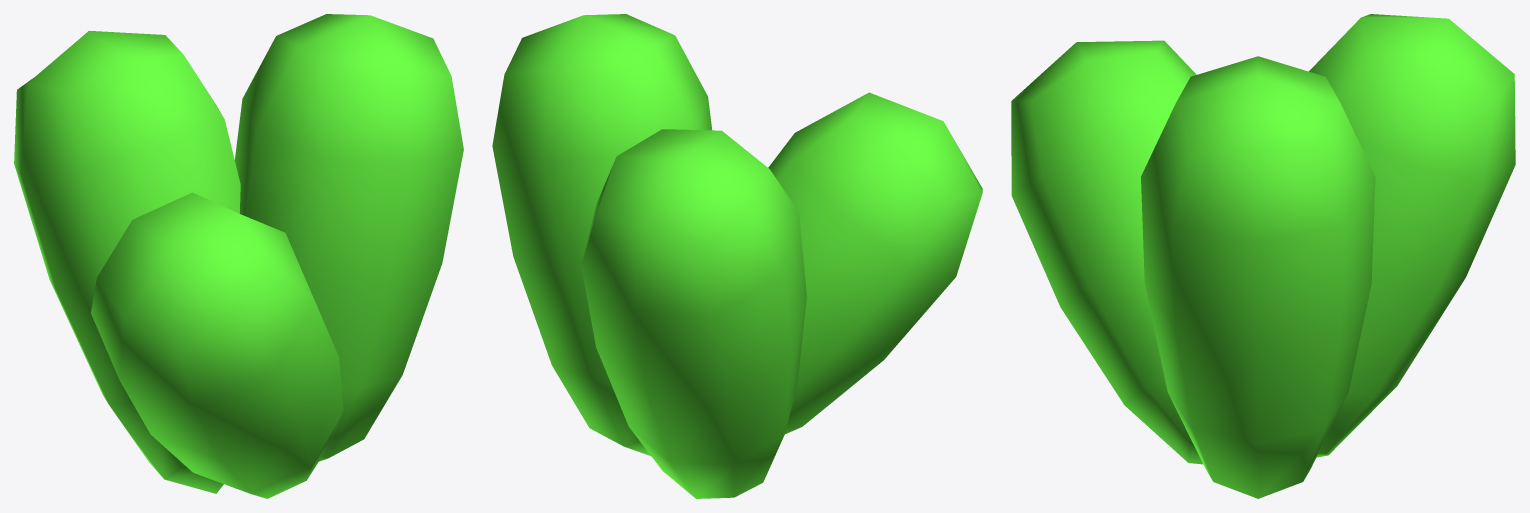
Rendered from dry_grass1.glb.
3 renders of one model, left to right at view 1: azimuth 30°, elevation 25°; view 2: azimuth 150°, elevation 25°; view 3: azimuth 270°, elevation 25°, orthographic. The views are drawn at different scales.
Visible parts, largest first — view 1: dry_grass1; view 2: dry_grass1; view 3: dry_grass1.
Boxes of the visible parts, x1,y1,x2,y2 form: dry_grass1: (14,14,463,498); dry_grass1: (492,14,982,498); dry_grass1: (1011,14,1515,498).
Size of the model in its own units: 1.24 by 1.3 by 1.28.
